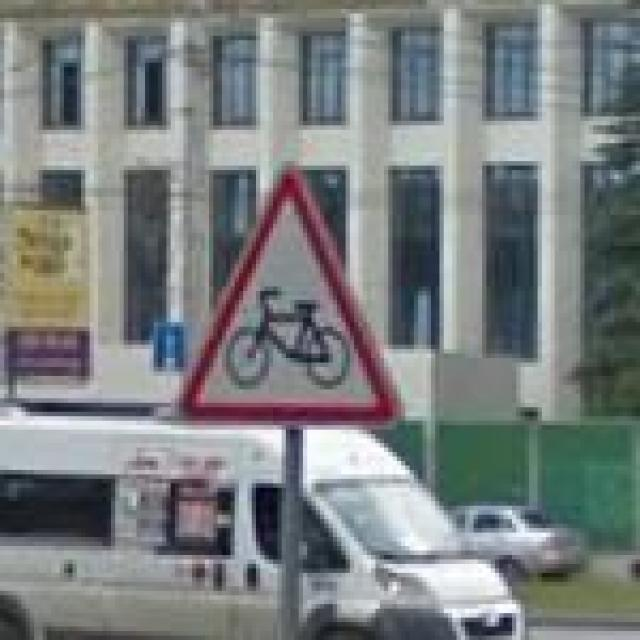bicycle: (180, 166, 406, 425)
